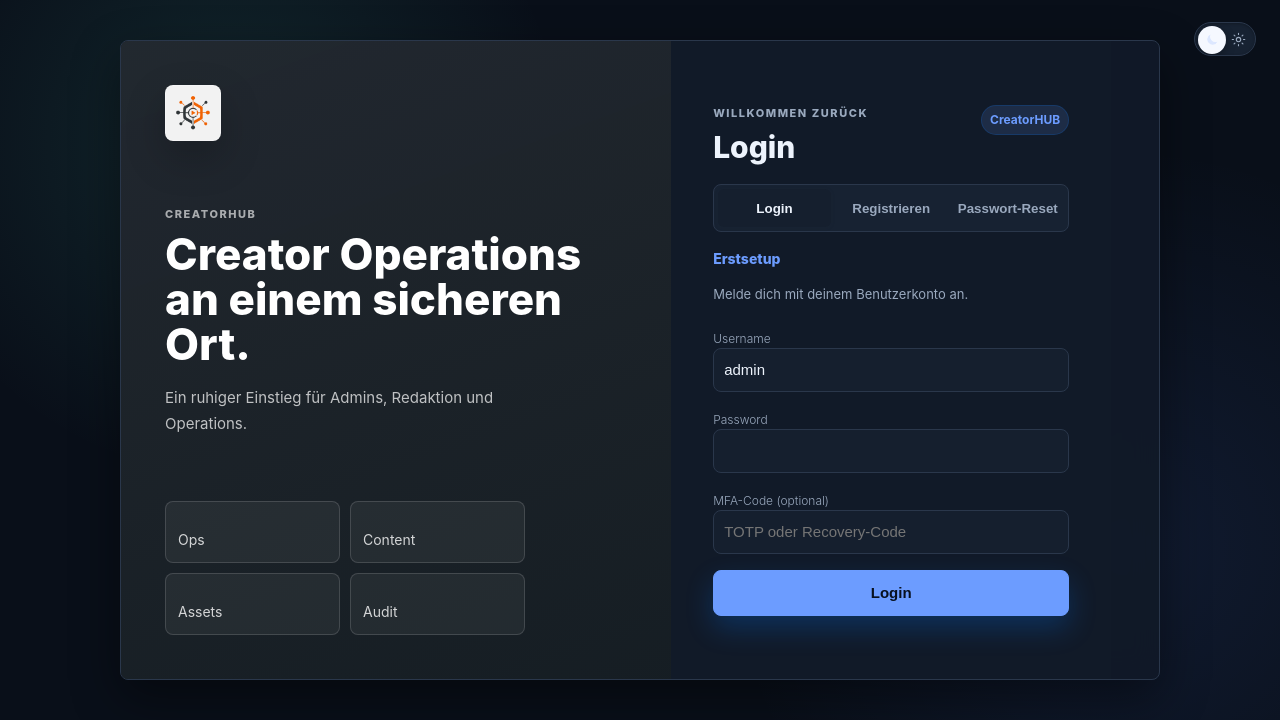
Scenario: LoginPageView › keeps bootstrap token hidden until requested and removes setup after completion
This screenshot has width=1280, height=720.
expect the field labelled "Bootstrap-Token (nur Erstsetup)" is not shown: met
Click the button "Erstsetup" at [747, 258], box [713,248,780,269]
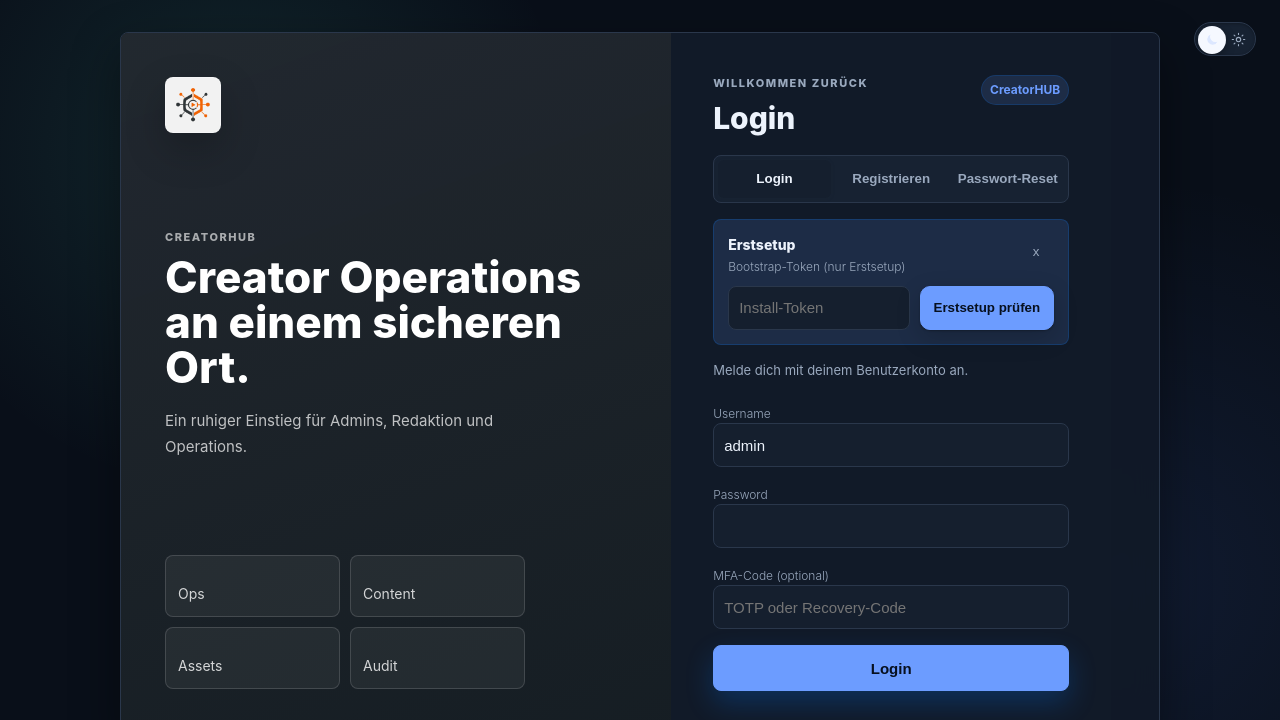
Type "bootstrap-1" into the field labelled "Bootstrap-Token (nur Erstsetup)" at [819, 308], box [728,286,910,330]
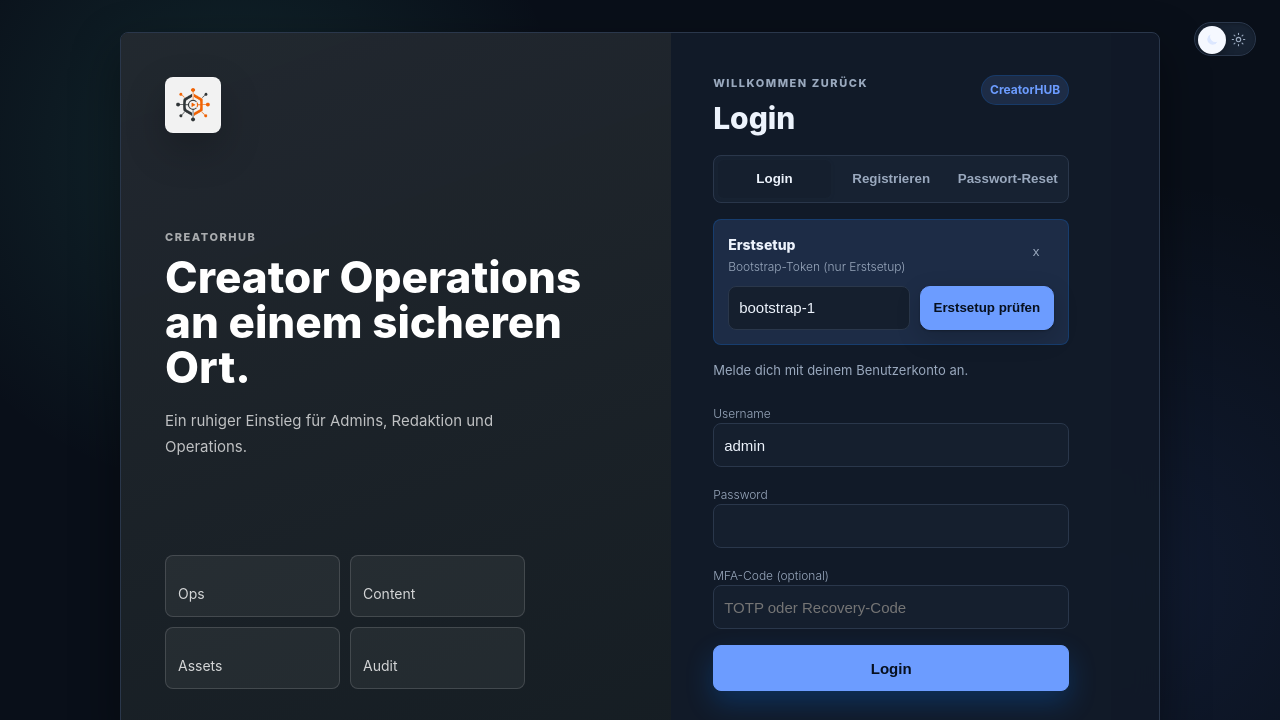
Click the button "Erstsetup prüfen" at [987, 308], box [920,286,1054,330]
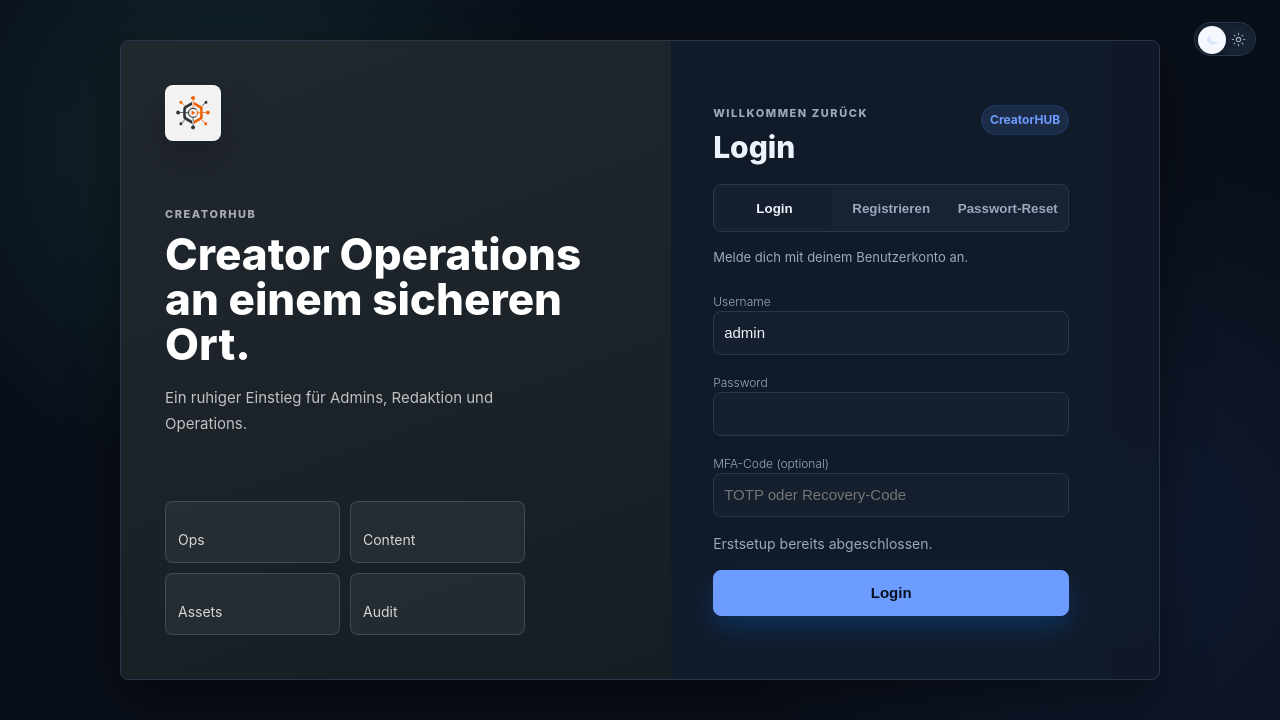
expect the label labelled "Bootstrap-Token (nur Erstsetup)" is gone: met
